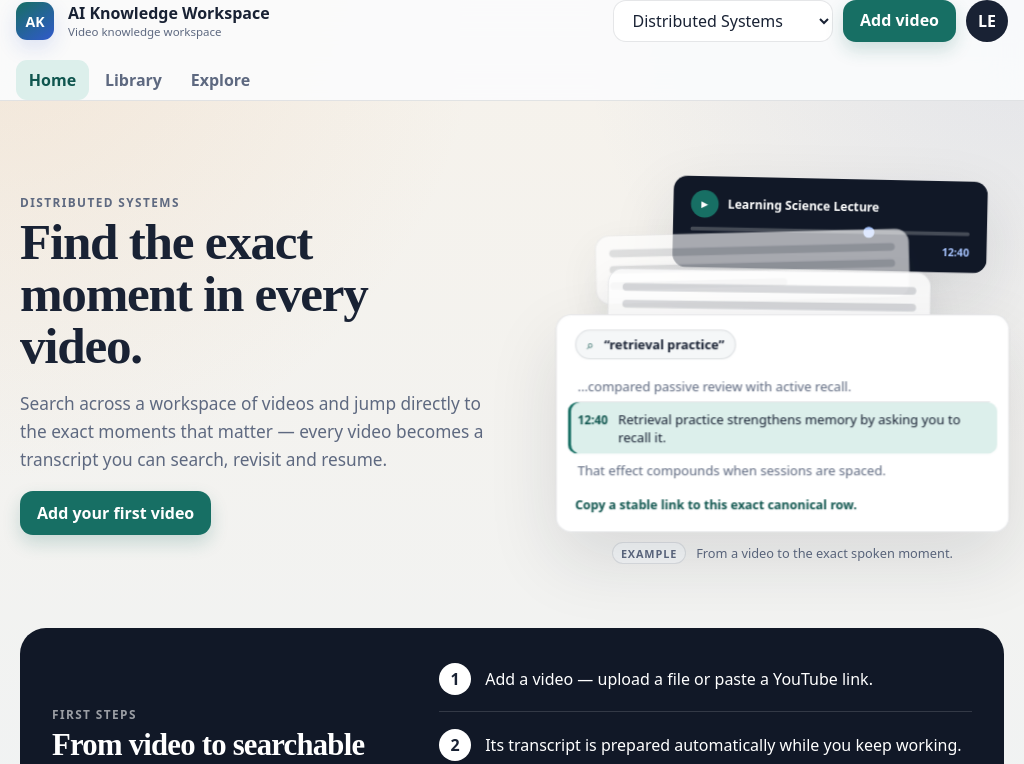
Test: Add video application flow › uses the upload success invalidation and navigation lifecycle after YouTube creation
Click the button with aria-label "Add video to current workspace": (900, 21) [843,0,956,42]
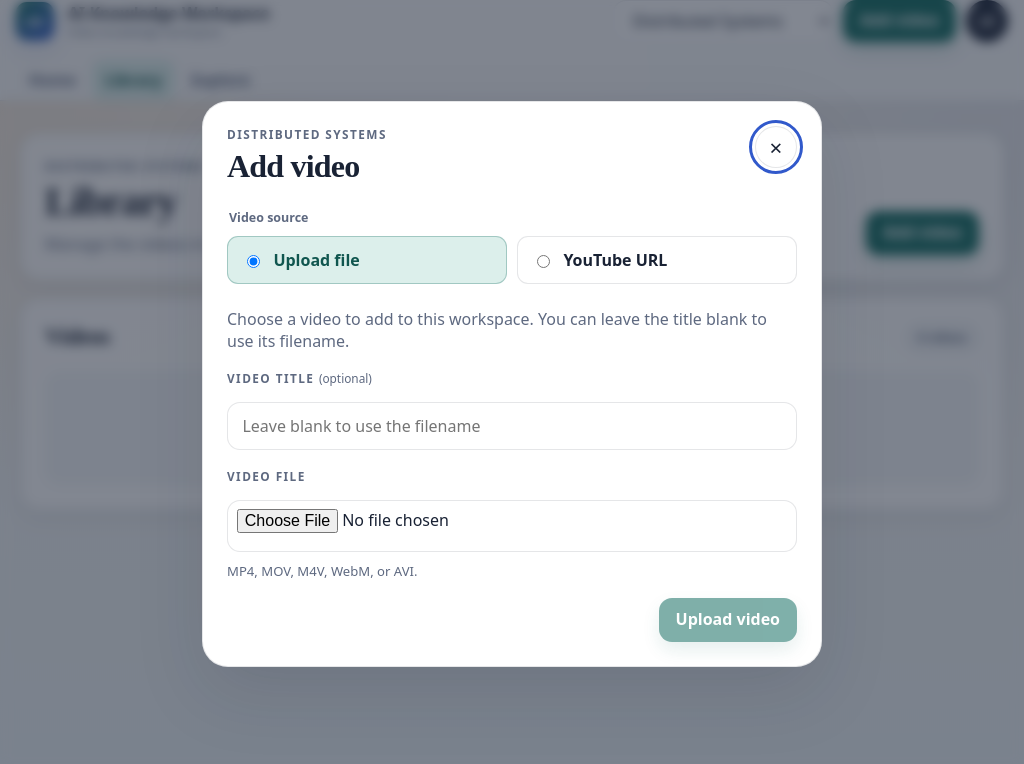
Click the radio button labelled "YouTube URL": (544, 262) [537,256,550,268]
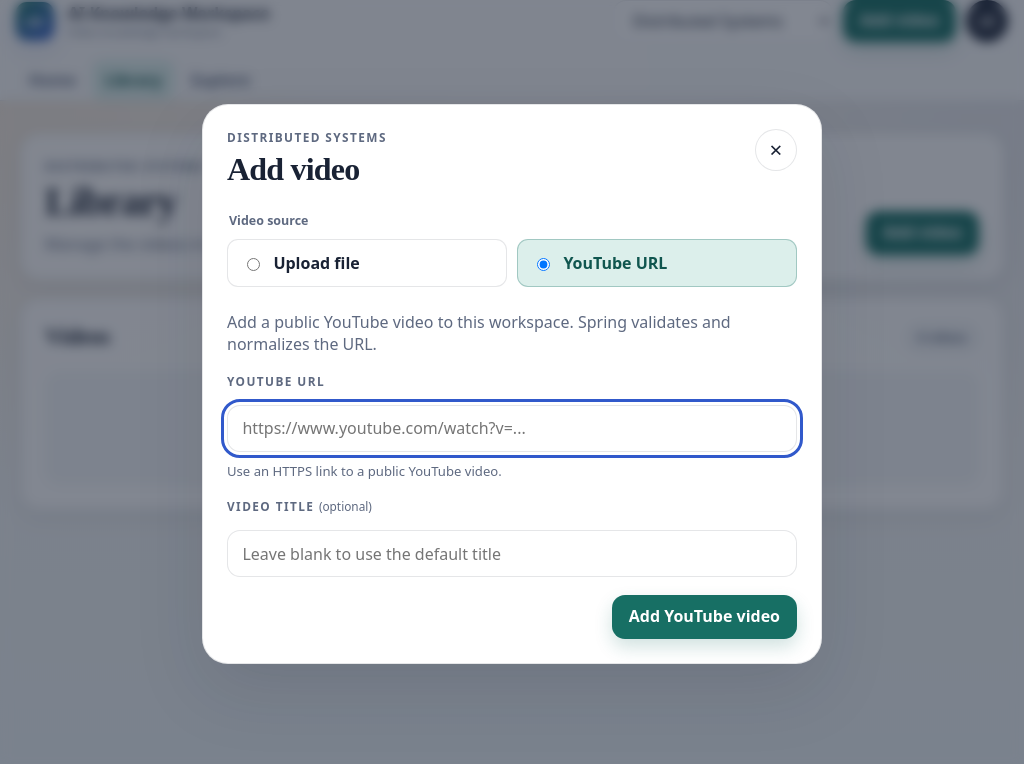
In the field labelled "YouTube URL": (512, 428) [227,405,797,452], type "https://youtu.be/abc_DEF-123"
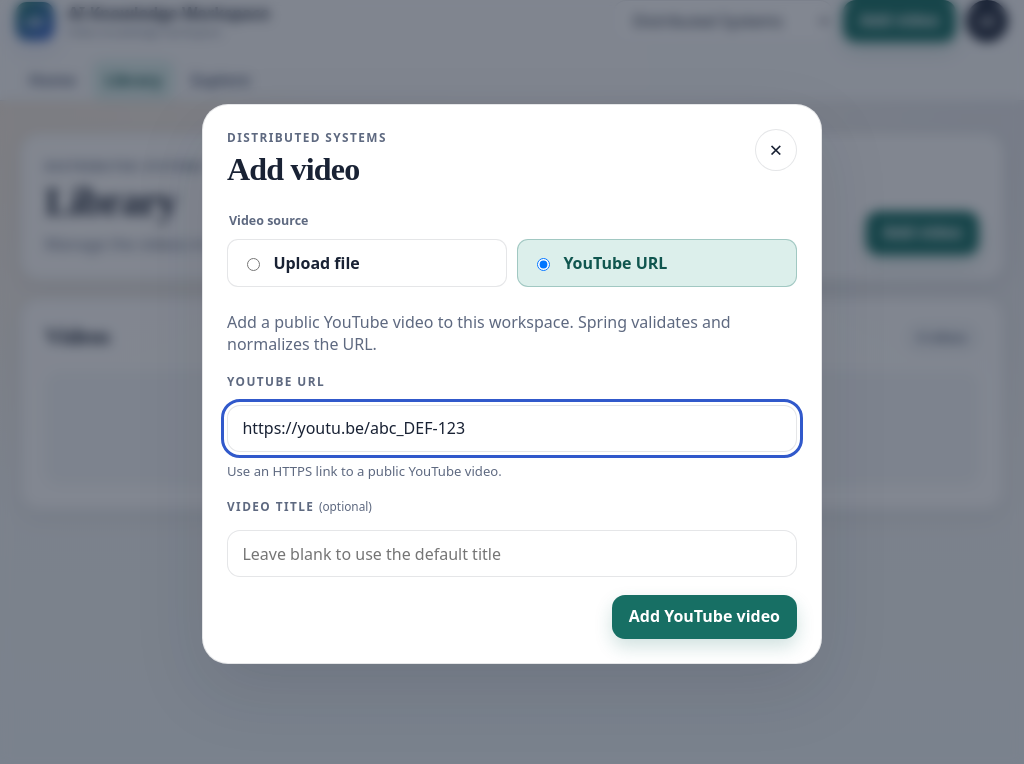
In the field labelled "Video title (optional)": (512, 554) [227,530,797,577], type "Causal ordering"
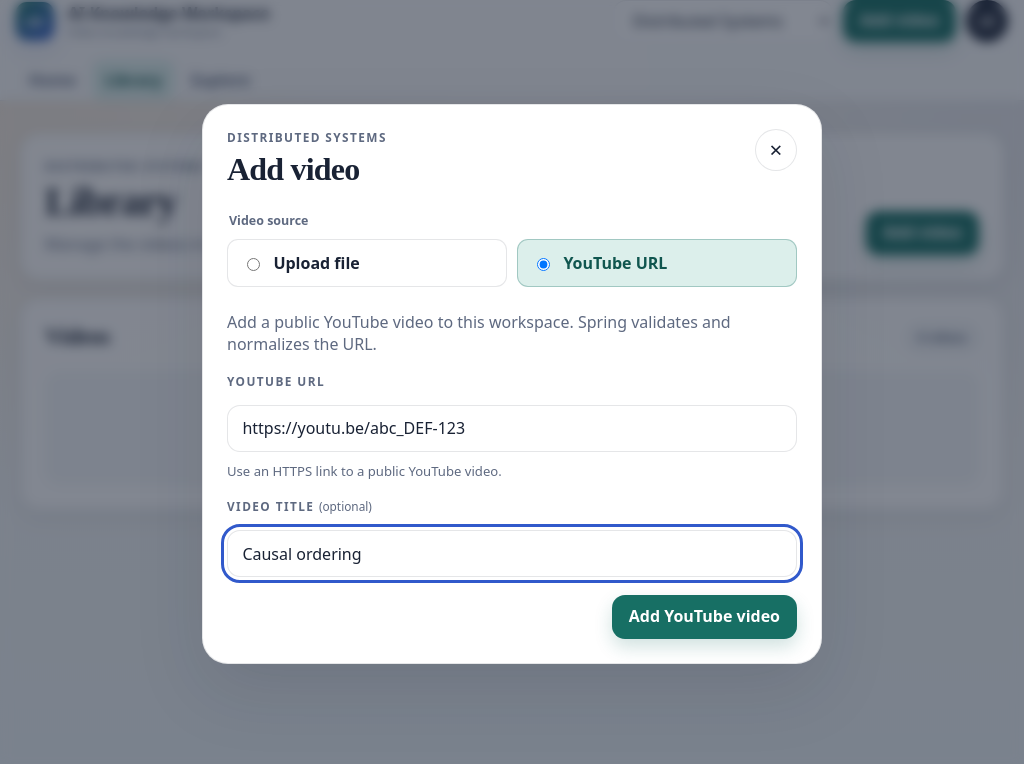
Click the button "Add YouTube video": (704, 617) [612,595,797,639]
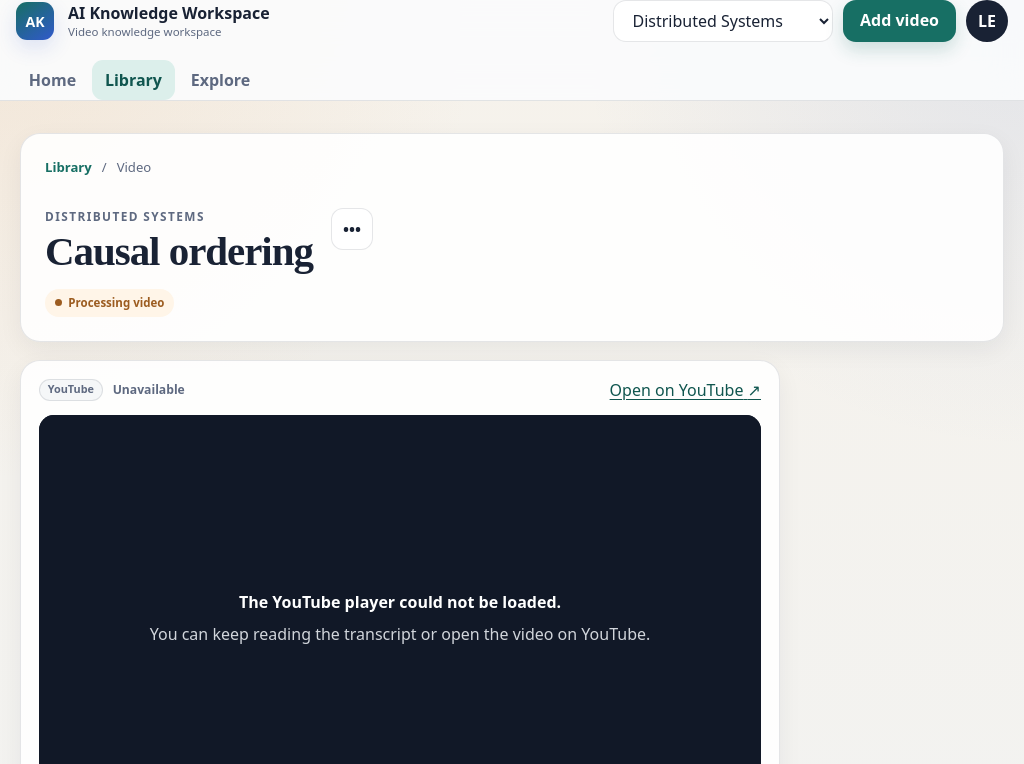
Expected: the heading "Causal ordering" is shown, [45,230,313,273]
Expected: the text with class "source-badge" reads "YouTube", [48,381,94,396]
Expected: the text "Processing video" is shown, [45,289,174,317]
